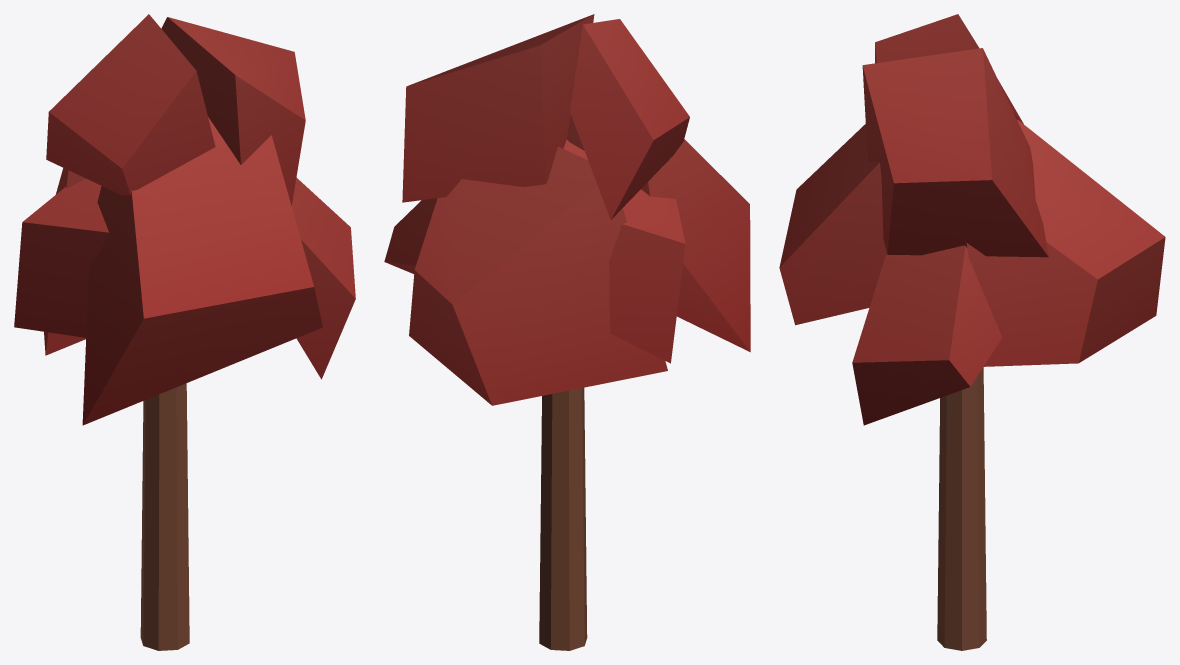
The model's file is Tree_41_gradient_red_vc.fbx.
3 views of the same model, side by side, from view 1: azimuth 30°, elevation 25°; view 2: azimuth 150°, elevation 25°; view 3: azimuth 270°, elevation 25° (orthographic). The views are drawn at different scales.
Parts seen in each view (by area): view 1: Tree_41_gradient_red_vc; view 2: Tree_41_gradient_red_vc; view 3: Tree_41_gradient_red_vc.
Part boxes in pixels (box(x1,y1,x2,y2)): Tree_41_gradient_red_vc: box(14, 14, 355, 650); Tree_41_gradient_red_vc: box(384, 14, 750, 650); Tree_41_gradient_red_vc: box(779, 14, 1165, 650).
Size of the model in its own units: 120 by 229 by 130.
